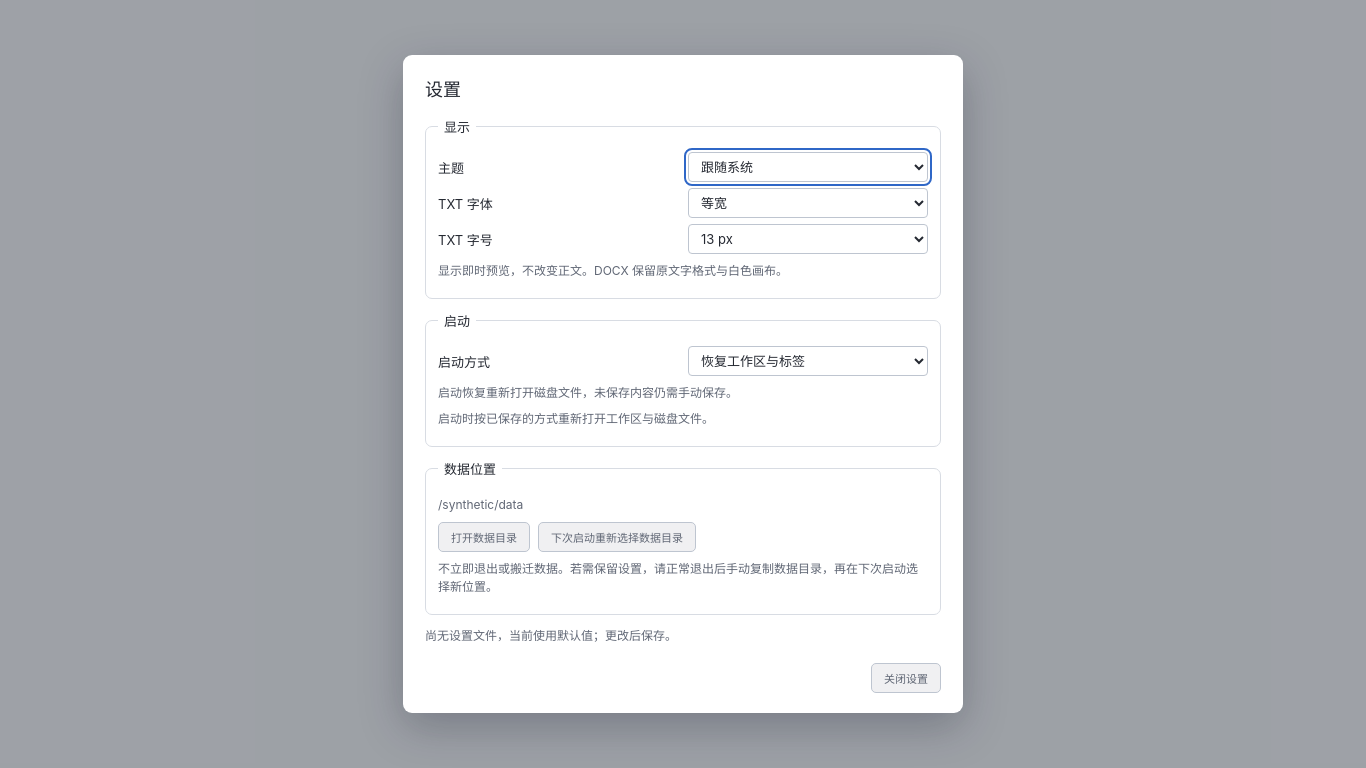
WP2 settings service and dialog › retries a failed directory action instead of writing preferences
Click the button "打开数据目录".
click(484, 537)  # box [438,522,530,552]
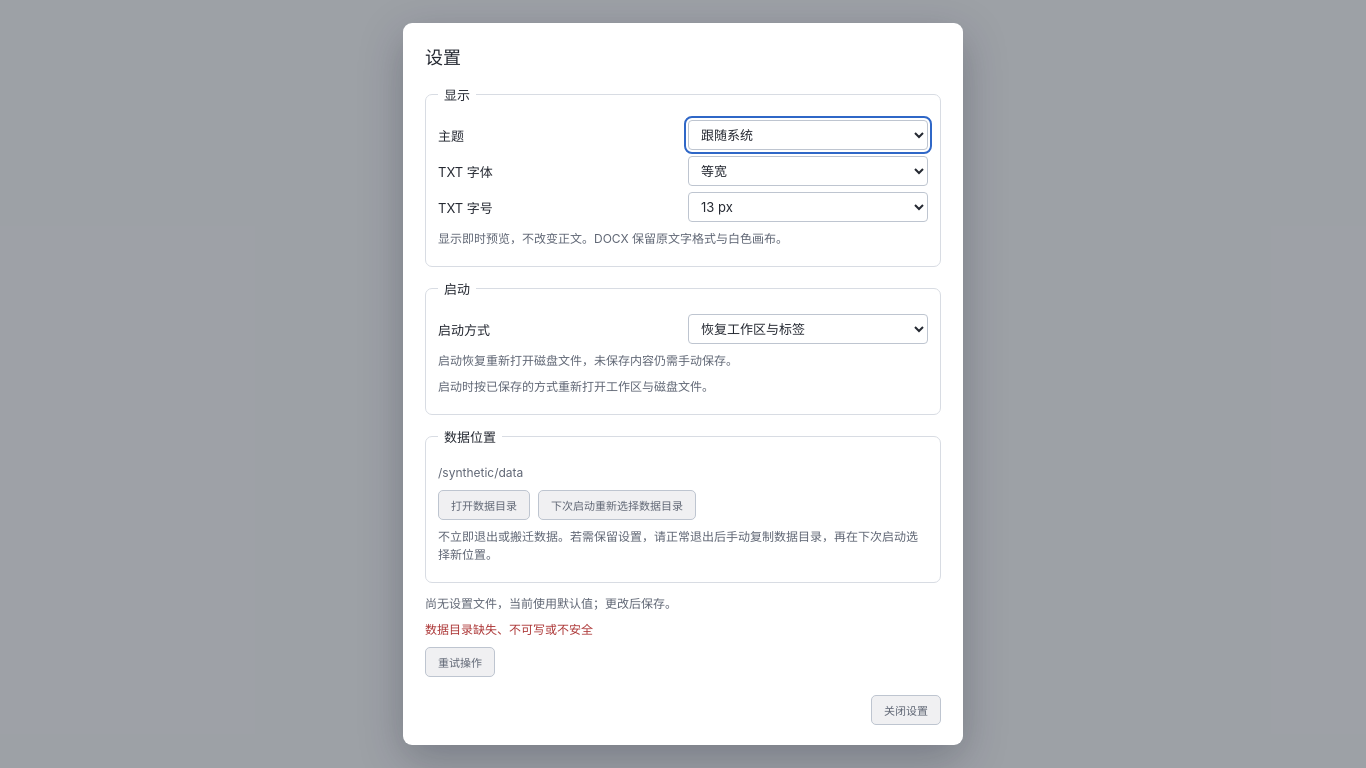
Click the button "重试操作".
click(460, 662)  # box [425,647,495,677]
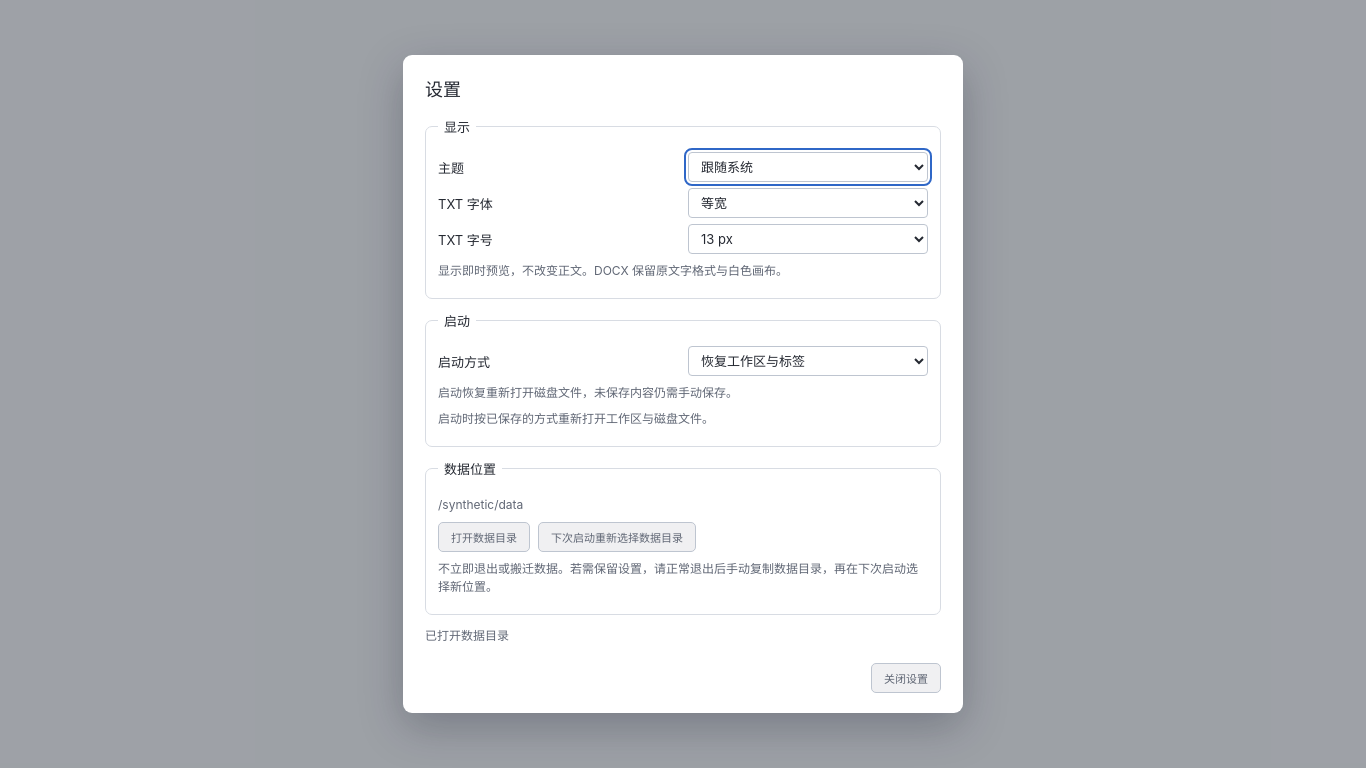
Check: the text "已打开数据目录" is shown, box [425,628,509,643]
